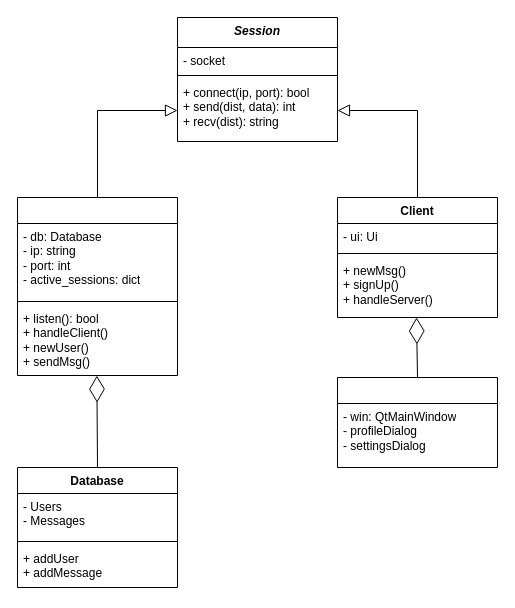
The diagram is 515 pixels wide and 608 high, and some of its shapes have lost their labels. The box of each missing label's shape, as (x1, y1, x2, y2) in pixels:
Server: (16, 196, 178, 376)
Ui: (336, 376, 498, 468)
